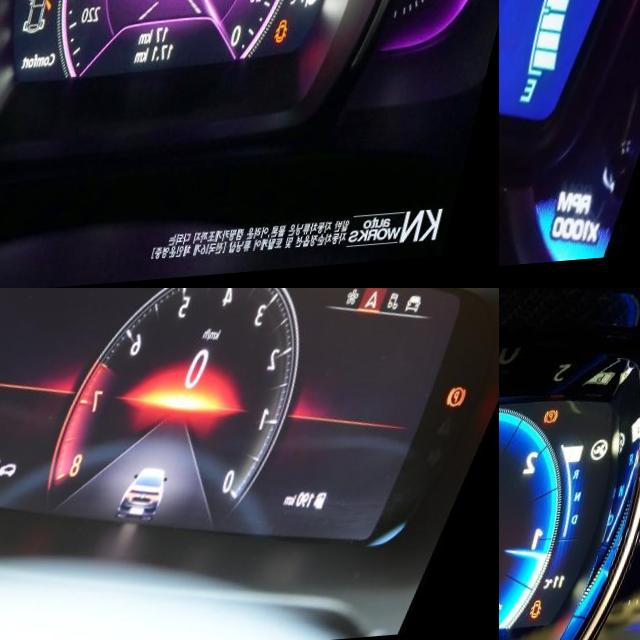Doors: (294, 25, 311, 50), (550, 605, 565, 626)
Low beam: (321, 288, 346, 293)
SideLamp: (340, 288, 363, 293)
